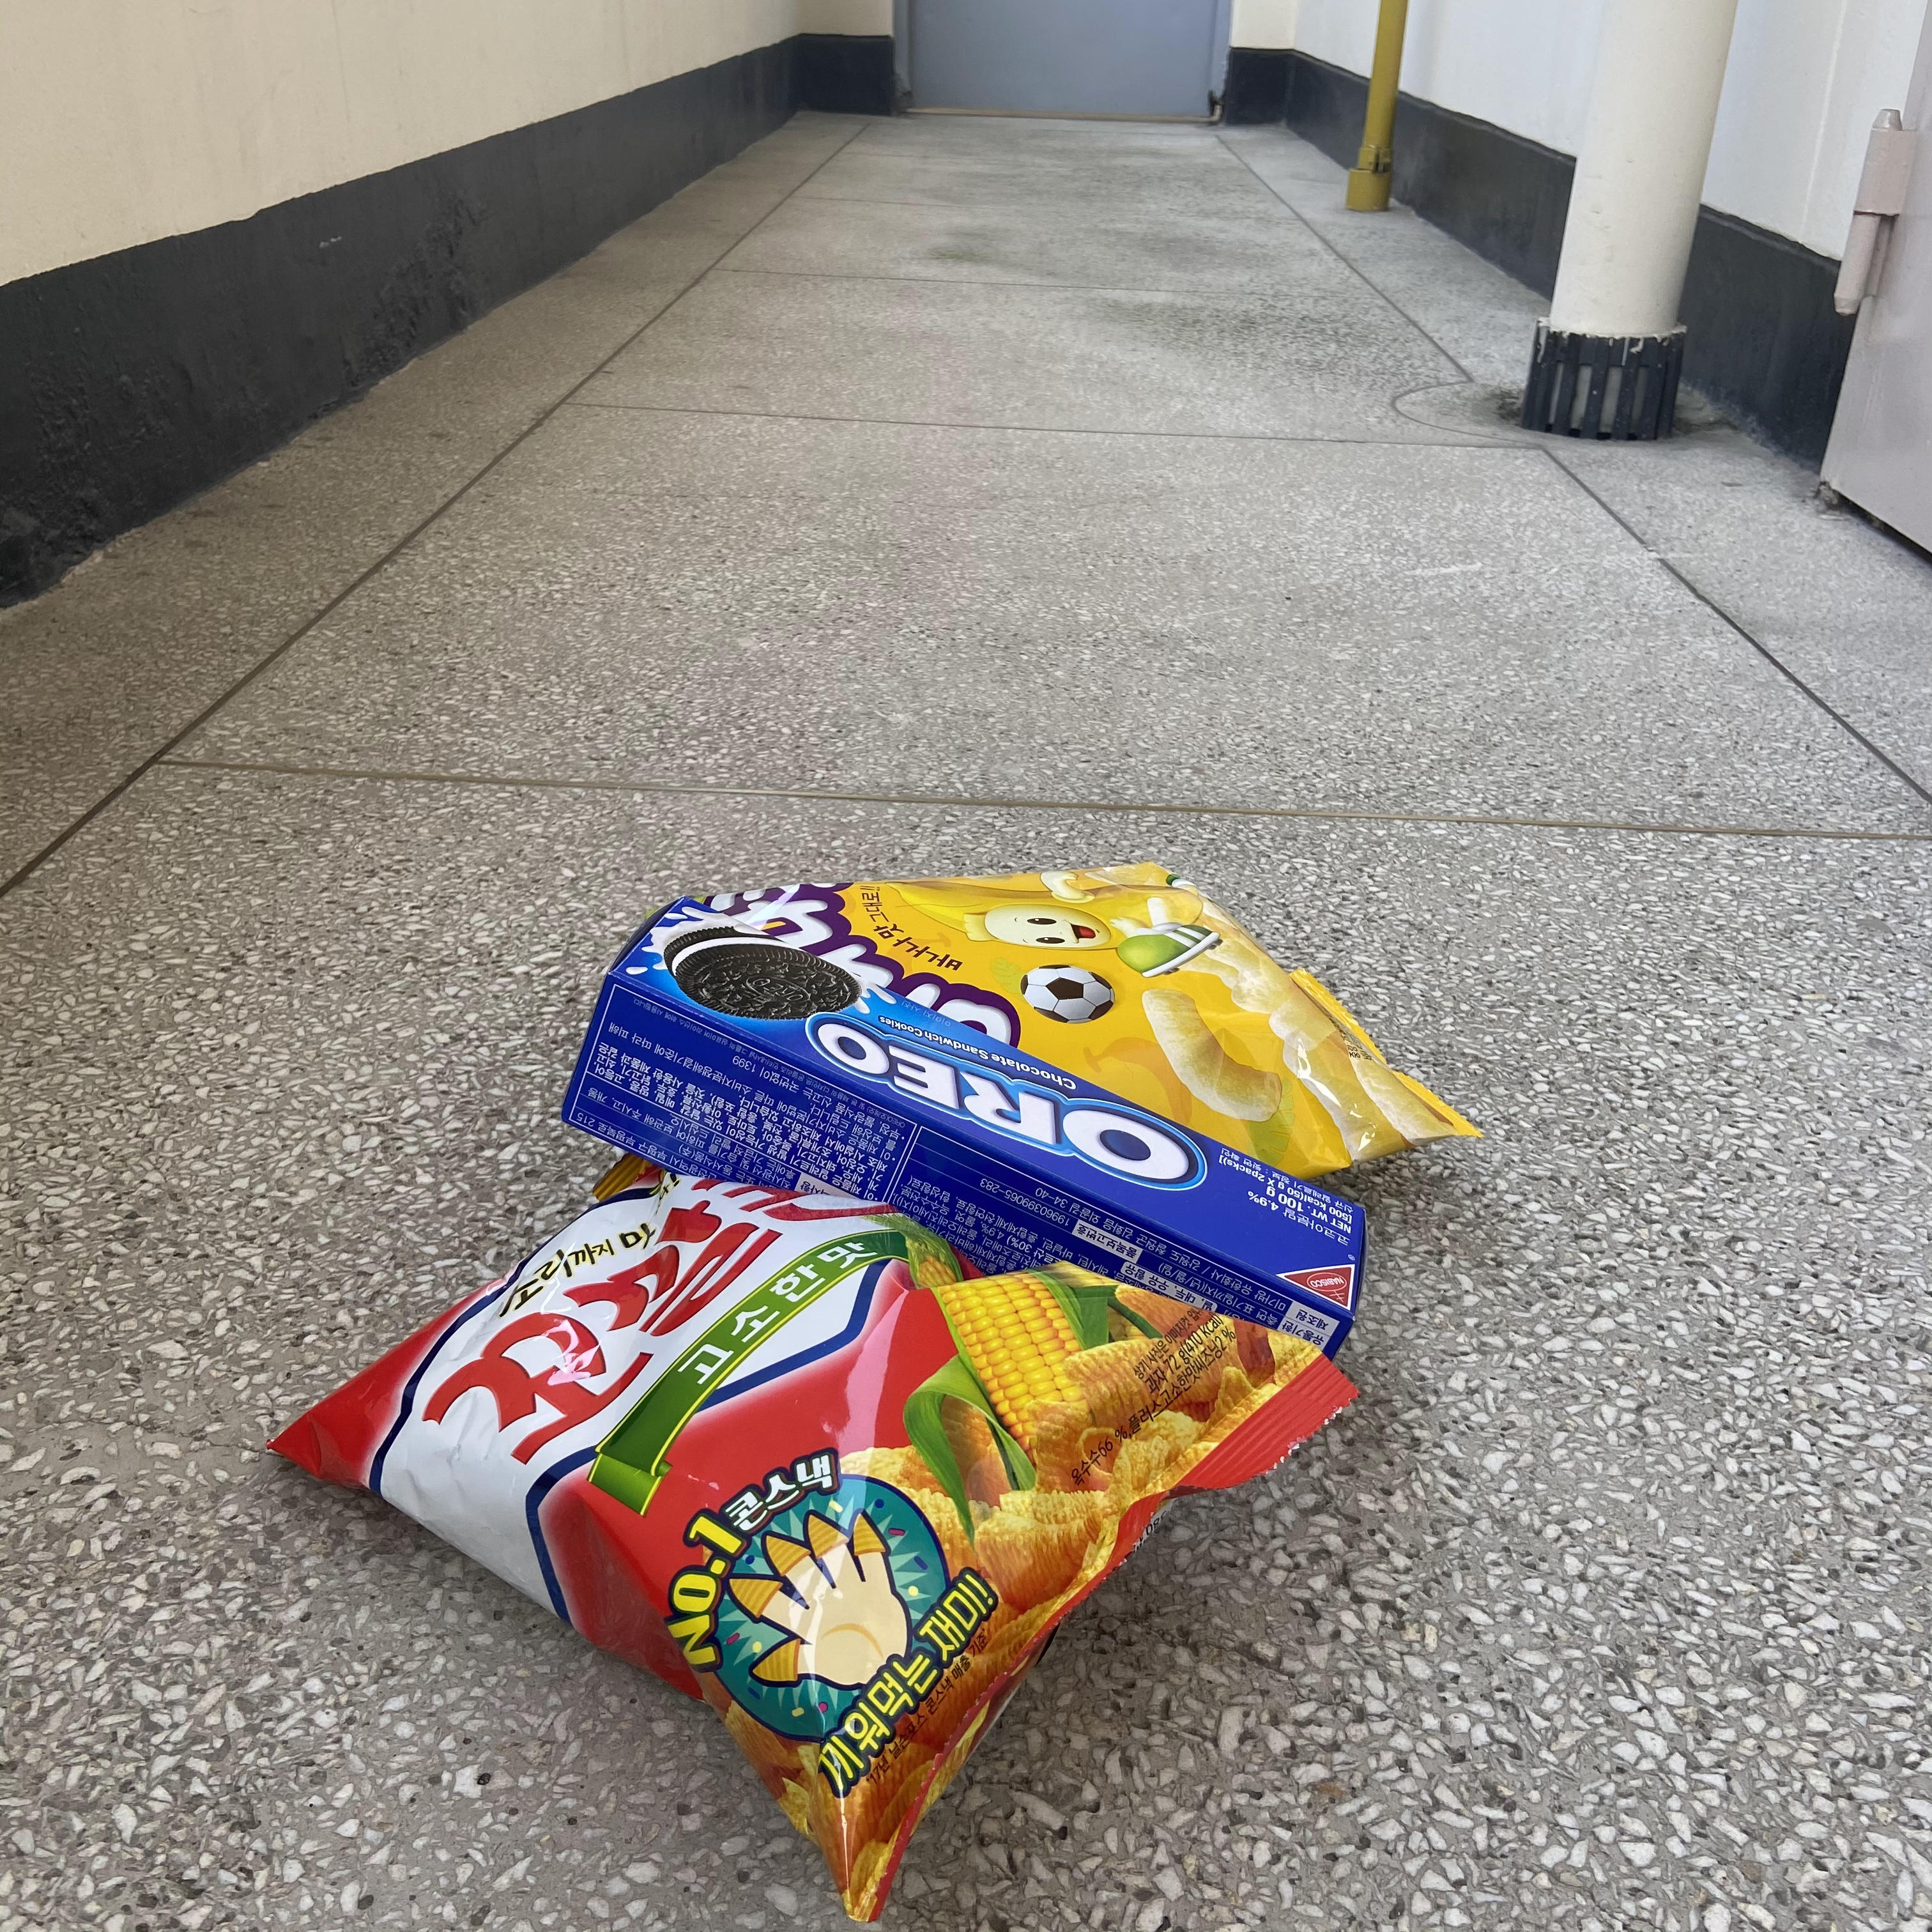banana: (686, 840, 1548, 1178)
ggoggalcon: (251, 1154, 1357, 1932)
oreo: (547, 892, 1378, 1391)
